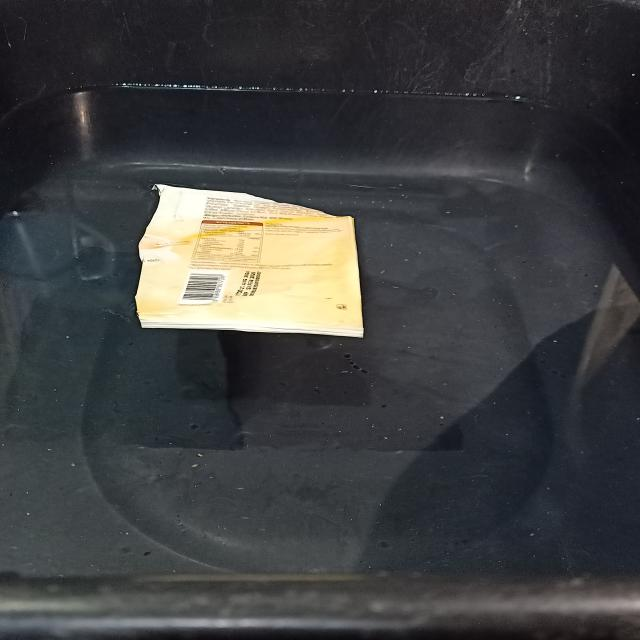Plastic Wrapper: (135, 184, 364, 337)
